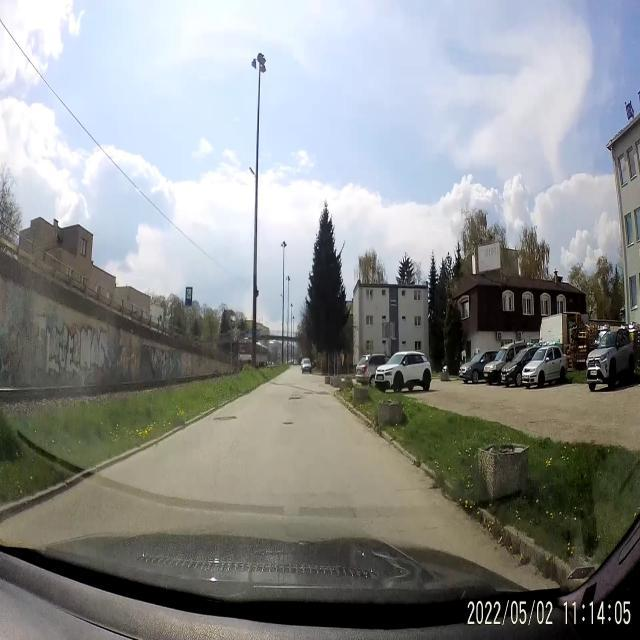Pothole: (213, 411, 240, 424), (286, 392, 302, 406), (276, 418, 294, 430)
